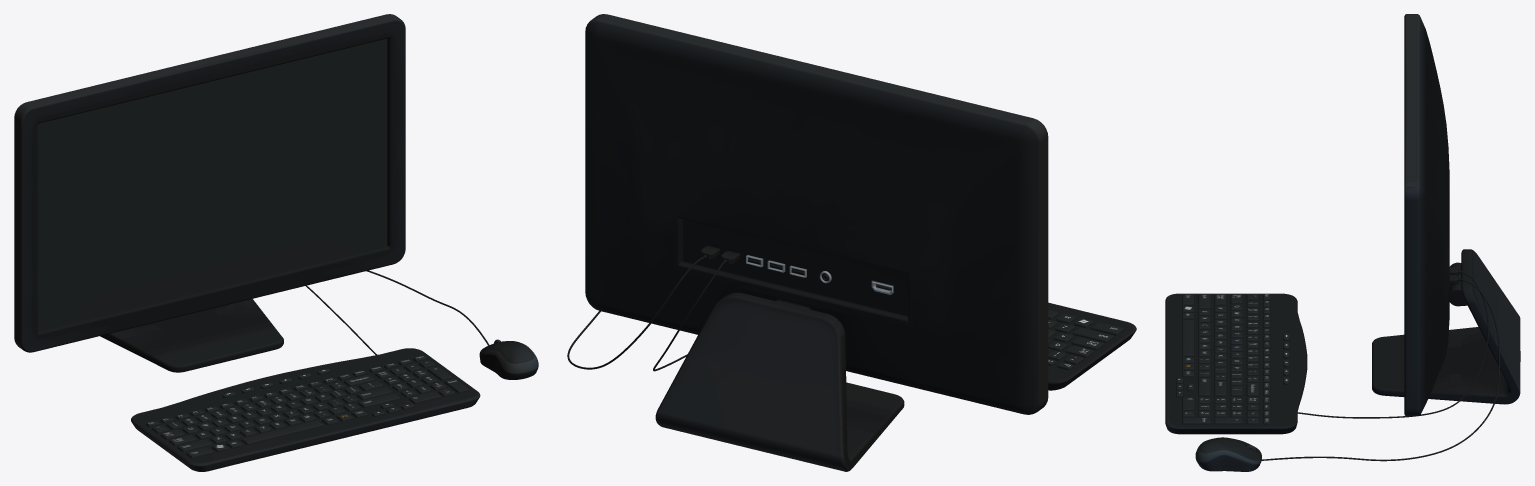
File: electronic-4.glb
The picture shows the model from 3 angles, left to right: view 1: azimuth 30°, elevation 25°; view 2: azimuth 150°, elevation 25°; view 3: azimuth 270°, elevation 25°; orthographic projection. The views are drawn at different scales.
Visible parts, largest first — view 1: desktop_computer.1; view 2: desktop_computer.1; view 3: desktop_computer.1.
Part boxes in pixels (x1,y1,x2,y2): desktop_computer.1: (14, 14, 538, 471); desktop_computer.1: (567, 14, 1136, 471); desktop_computer.1: (1165, 14, 1520, 471).
Bounding box in the file's own units: 0.0946 × 0.0624 × 0.0741.
1 material, 1 textured.
